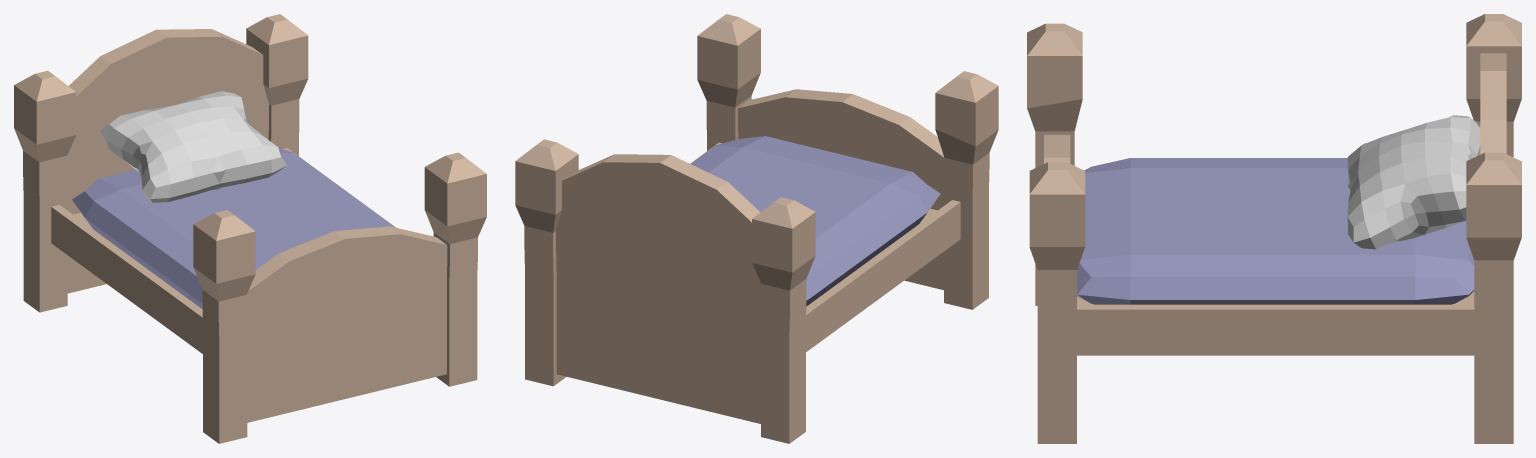
The model's file is Bed.fbx.
3 renders of one model, left to right at view 1: azimuth 30°, elevation 25°; view 2: azimuth 150°, elevation 25°; view 3: azimuth 270°, elevation 25°, orthographic. The views are drawn at different scales.
Visible parts, largest first — view 1: bed_base; view 2: bed_base; view 3: bed_base.
Boxes of the visible parts, box(x1,y1,x2,y2) form: bed_base: box(14, 14, 486, 443); bed_base: box(515, 14, 998, 443); bed_base: box(1027, 14, 1521, 443).
Bounding box in the file's own units: 146 × 124 × 188.
